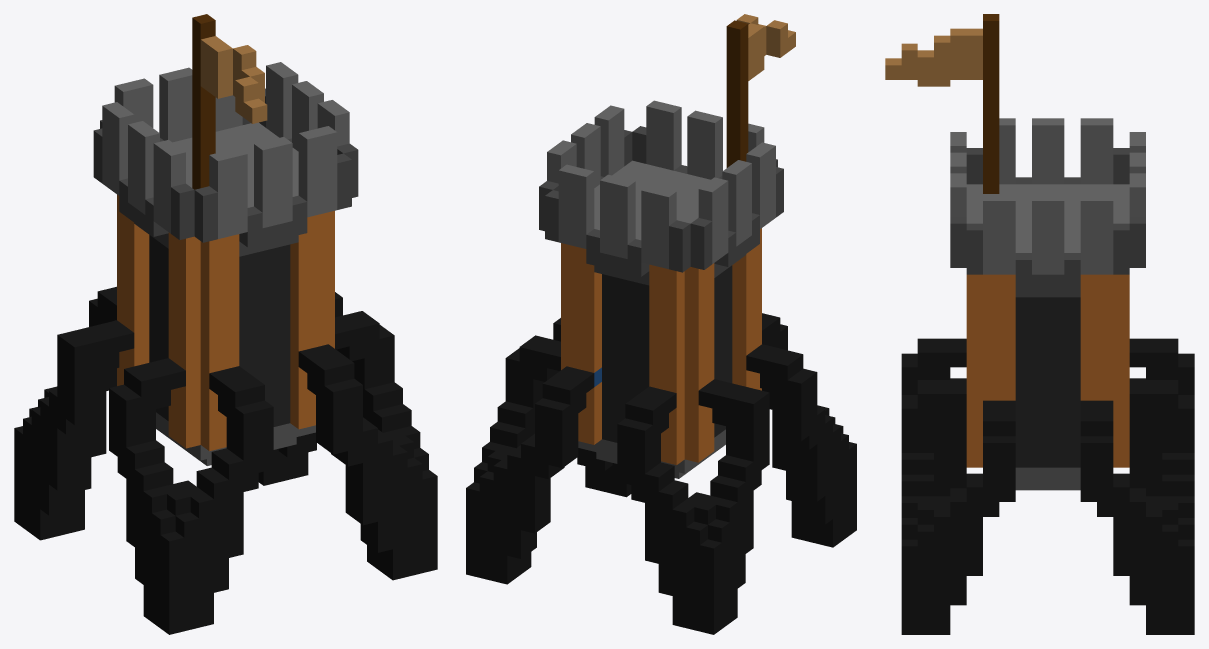
Rendered from EarthTower_01.obj.
The picture shows the model from 3 angles, left to right: view 1: azimuth 30°, elevation 25°; view 2: azimuth 150°, elevation 25°; view 3: azimuth 270°, elevation 25°; orthographic projection. The views are drawn at different scales.
Bounding box in the file's own units: 18 × 36 × 19.
1 material, 1 textured.
